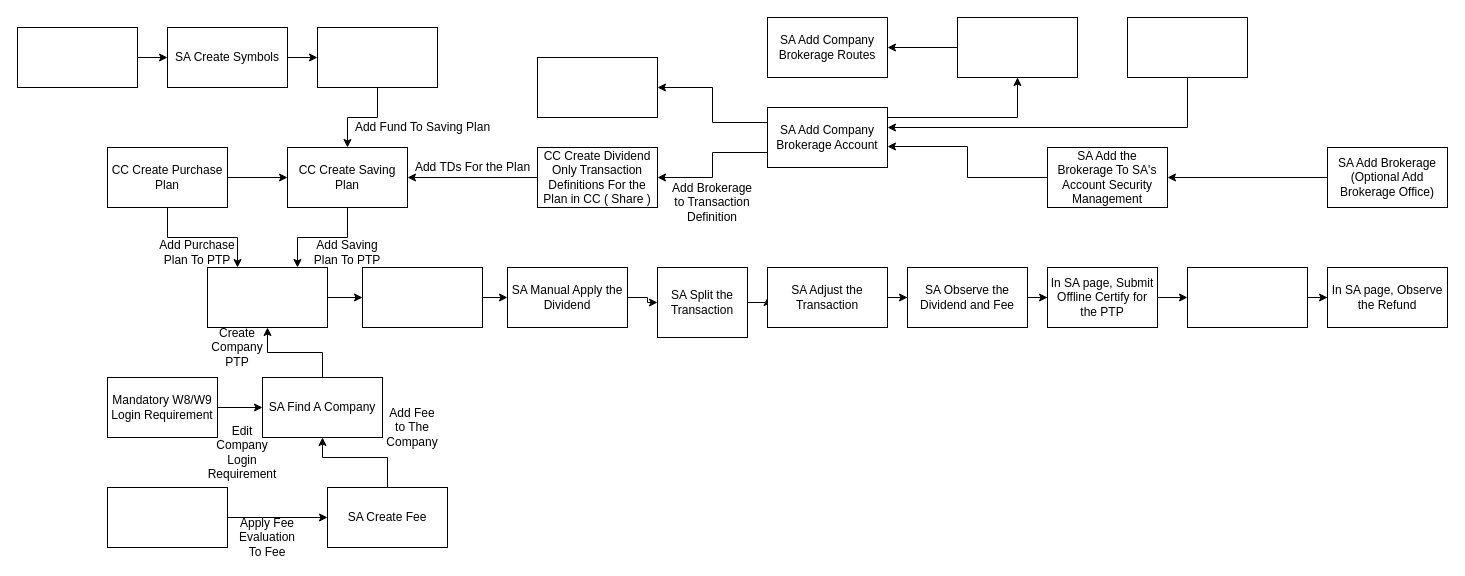
The diagram is 1465 pixels wide and 576 high, and some of its shapes have lost their labels. Each missing label, with the centre of its shape:
CC Create PTPs: (x=267, y=297)
CC Create Quote: (x=77, y=57)
In SA page, Run Refund Script or Refund Schedule Job: (x=1247, y=297)
SA Add Brokerage to Company Fund ( Award): (x=597, y=87)
SA Add Company Disbursement Account: (x=1017, y=47)
SA Add Dividend For New Created Fund: (x=422, y=297)
SA Create Bank Reference: (x=1187, y=47)
SA Create Fee Evaluation: (x=167, y=517)
SA Create New Fund: (x=377, y=57)
